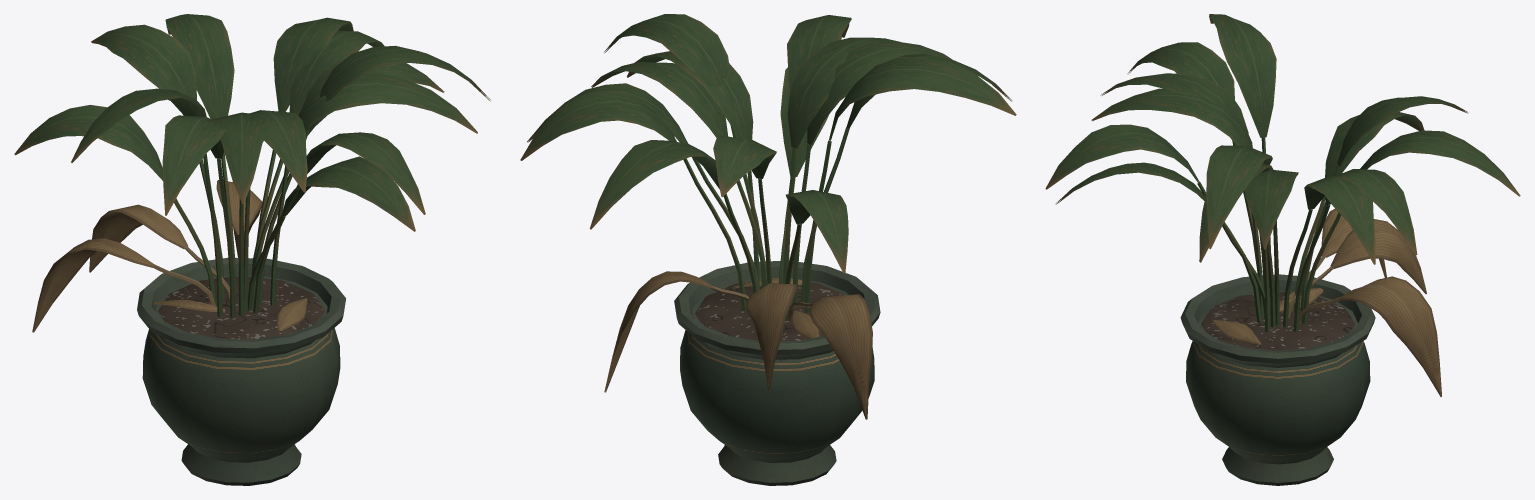
The model's file is Plant.fbx.
3 views of the same model, side by side, from view 1: azimuth 30°, elevation 25°; view 2: azimuth 150°, elevation 25°; view 3: azimuth 270°, elevation 25° (orthographic). The views are drawn at different scales.
Parts seen in each view (by area): view 1: SM_Plant.001; view 2: SM_Plant.001; view 3: SM_Plant.001.
Boxes of the visible parts, x1=… form: SM_Plant.001: x1=14, y1=14, x2=490, y2=485; SM_Plant.001: x1=520, y1=14, x2=1016, y2=485; SM_Plant.001: x1=1045, y1=14, x2=1520, y2=485.
Bounding box in the file's own units: 99.14 × 93.59 × 105.
1 material, 1 textured.
